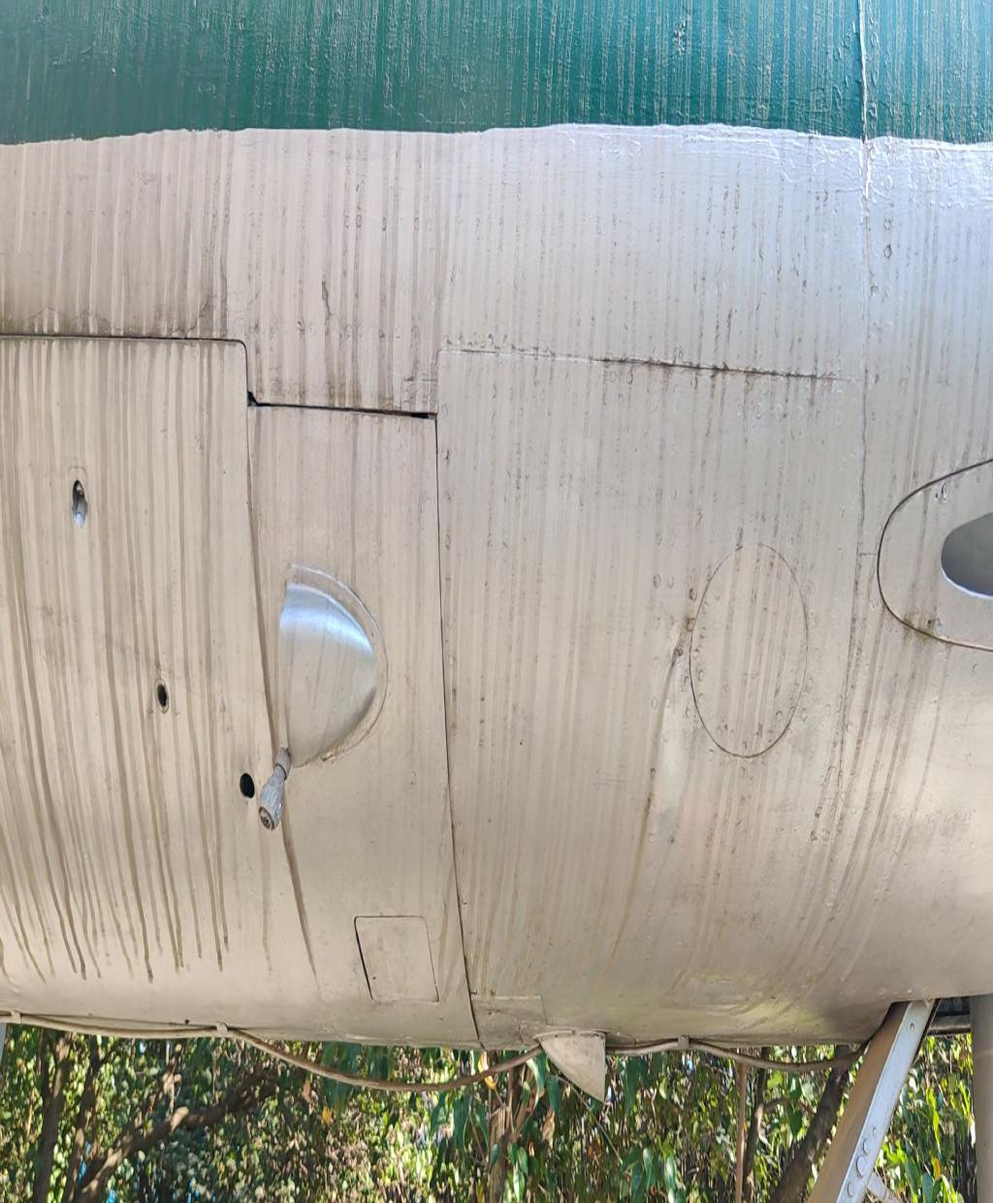dent: (625, 616, 700, 834)
